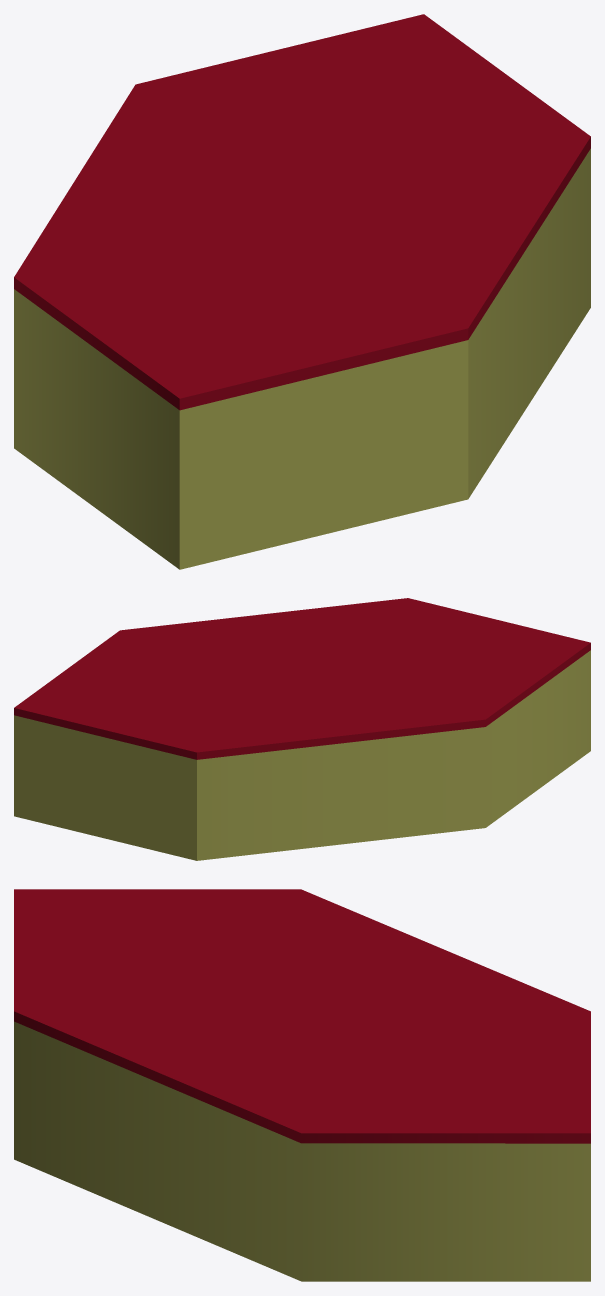
File: NewIsland.fbx
3 views of the same model, one above another, from view 1: azimuth 30°, elevation 25°; view 2: azimuth 150°, elevation 25°; view 3: azimuth 270°, elevation 25° (orthographic). The views are drawn at different scales.
Visible parts, largest first — view 1: Island; view 2: Island; view 3: Island.
Part boxes in pixels (left/top/right/bottom): Island: left=14, top=14, right=590, bottom=569; Island: left=14, top=598, right=590, bottom=860; Island: left=14, top=889, right=590, bottom=1281.
Size of the model in its own units: 6955 by 1970 by 6950.
